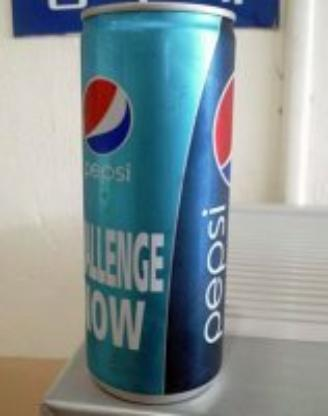Can: (76, 3, 234, 401)
